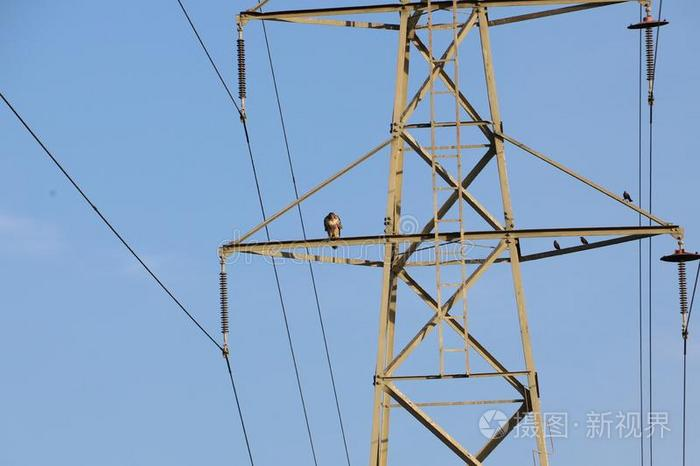insulator: (217, 270, 232, 335), (676, 262, 690, 316), (644, 29, 657, 83), (236, 36, 247, 98)
